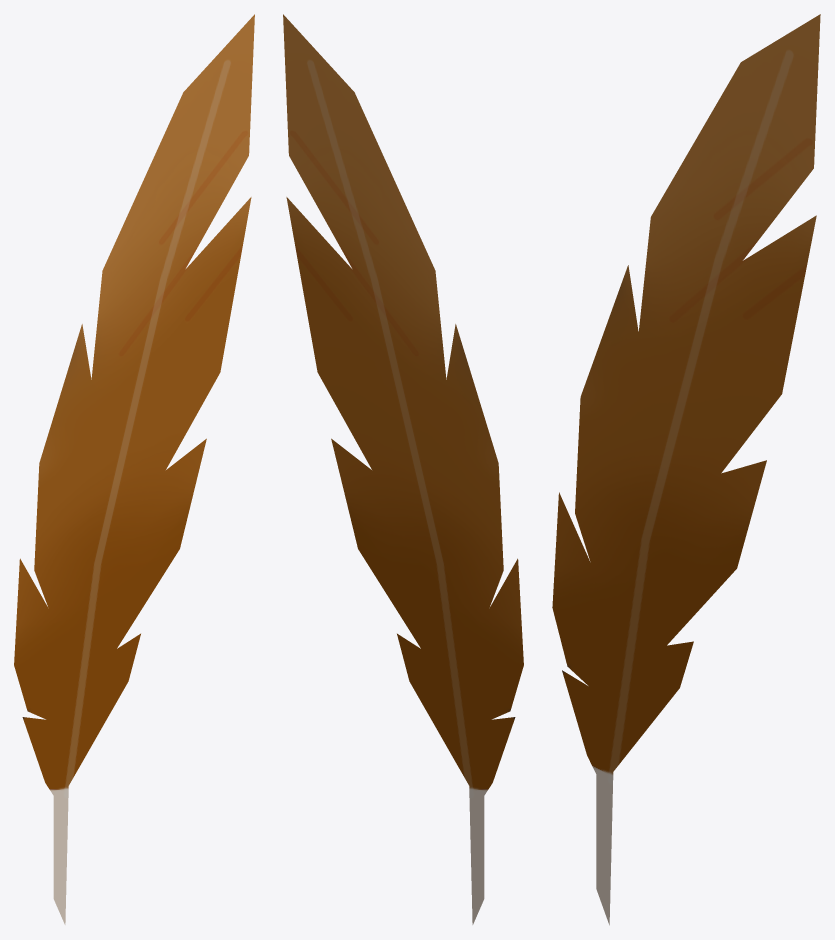
Rendered from Feather_2.fbx.
The picture shows the model from 3 angles, left to right: view 1: azimuth 30°, elevation 25°; view 2: azimuth 150°, elevation 25°; view 3: azimuth 330°, elevation 25°; orthographic projection. The views are drawn at different scales.
Visible parts, largest first — view 1: polySurface4; view 2: polySurface4; view 3: polySurface4.
Part boxes in pixels (<box>): polySurface4: <box>14,14,254,924</box>; polySurface4: <box>283,14,523,924</box>; polySurface4: <box>552,14,820,925</box>.
Bounding box in the file's own units: 0.0129 × 0.0443 × 0.
Materials: 1 (1 with a texture image).
